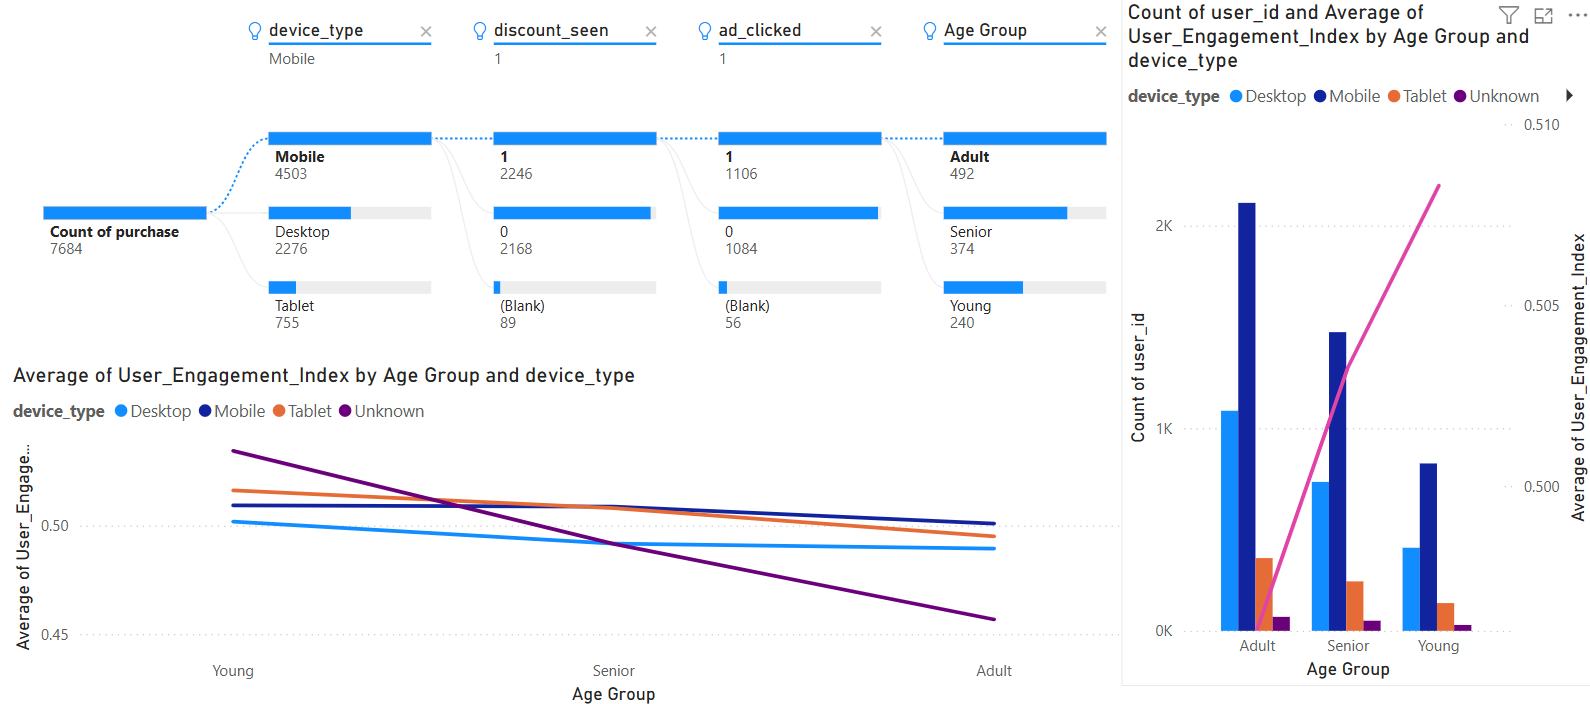

The dashboard page shown, as its layout file describes it:
{"tool":"powerbi","page":{"name":"Page 2","canvas":[1280,720],"ordinal":2},"visuals":[{"type":"decompositionTreeVisual","fields":{"Analyze":["CountNonNull(ecommerce_user_behavior_8000.purchase)"],"ExplainBy":["ecommerce_user_behavior_8000.device_type","ecommerce_user_behavior_8000.discount_seen","ecommerce_user_behavior_8000.ad_clicked","ecommerce_user_behavior_8000.Age Group"]},"box":[9.6,0,916.6,279.9],"z":0},{"type":"lineChart","fields":{"Category":["ecommerce_user_behavior_8000.Age Group"],"Y":["Avg(ecommerce_user_behavior_8000.User_Engagement_Index)"],"Series":["ecommerce_user_behavior_8000.device_type"]},"box":[10,290,917,280],"z":1},{"type":"lineClusteredColumnComboChart","fields":{"Category":["ecommerce_user_behavior_8000.Age Group"],"Y":["CountNonNull(ecommerce_user_behavior_8000.user_id)"],"Y2":["Avg(ecommerce_user_behavior_8000.User_Engagement_Index)"],"Series":["ecommerce_user_behavior_8000.device_type"]},"box":[902,0,378,570],"z":2},{"type":"slicer","fields":{"Values":["ecommerce_user_behavior_8000.Age Group"]},"box":[9.6,569.5,138.6,150.9],"z":3},{"type":"slicer","fields":{"Values":["ecommerce_user_behavior_8000.device_type"]},"box":[302,569,166,151],"z":4},{"type":"slicer","fields":{"Values":["ecommerce_user_behavior_8000.gender"]},"box":[674,569,135,151],"z":5}]}

Visuals, with their boxes on the page's 1280x720 design canvas (x1, y1, x2, y2). These are canvas units, not pixel positions in the 1590x704 screenshot, which may show the page scaled, cropped or inside an application window:
decompositionTreeVisual - CountNonNull(ecommerce_user_behavior_8000.purchase) x ecommerce_user_behavior_8000.device_type: (x1=10, y1=0, x2=926, y2=280)
lineChart - ecommerce_user_behavior_8000.Age Group x Avg(ecommerce_user_behavior_8000.User_Engagement_Index): (x1=10, y1=290, x2=927, y2=570)
lineClusteredColumnComboChart - ecommerce_user_behavior_8000.Age Group x CountNonNull(ecommerce_user_behavior_8000.user_id): (x1=902, y1=0, x2=1280, y2=570)
slicer - ecommerce_user_behavior_8000.Age Group: (x1=10, y1=570, x2=148, y2=720)
slicer - ecommerce_user_behavior_8000.device_type: (x1=302, y1=569, x2=468, y2=720)
slicer - ecommerce_user_behavior_8000.gender: (x1=674, y1=569, x2=809, y2=720)
